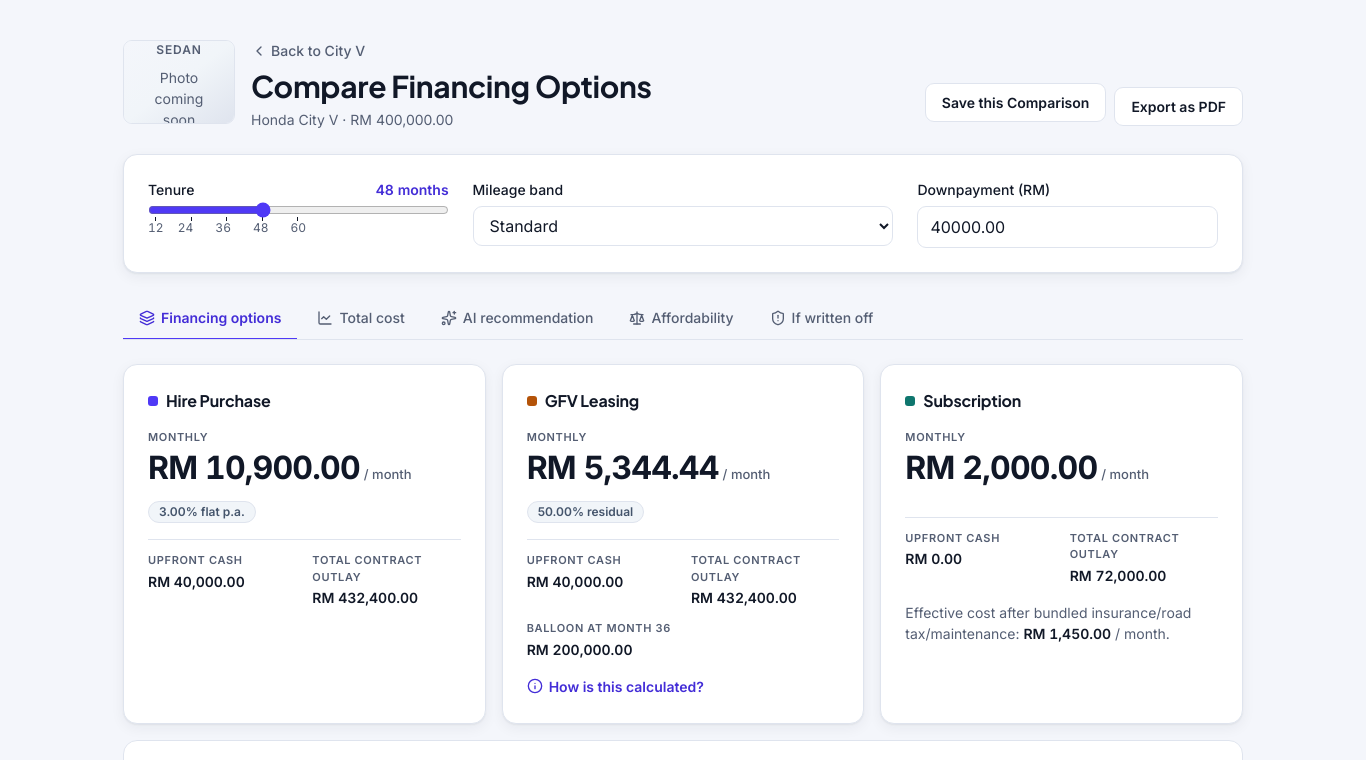
Test: ComparisonPage › TCO Breakdown & Depreciation tab › shows how each operating cost was derived, plus the Peninsular and before-NCD notes
The image size is (1366, 760).
Click the tab "Total cost": x=361, y=318 [301,297,421,340]
(page scrolled)
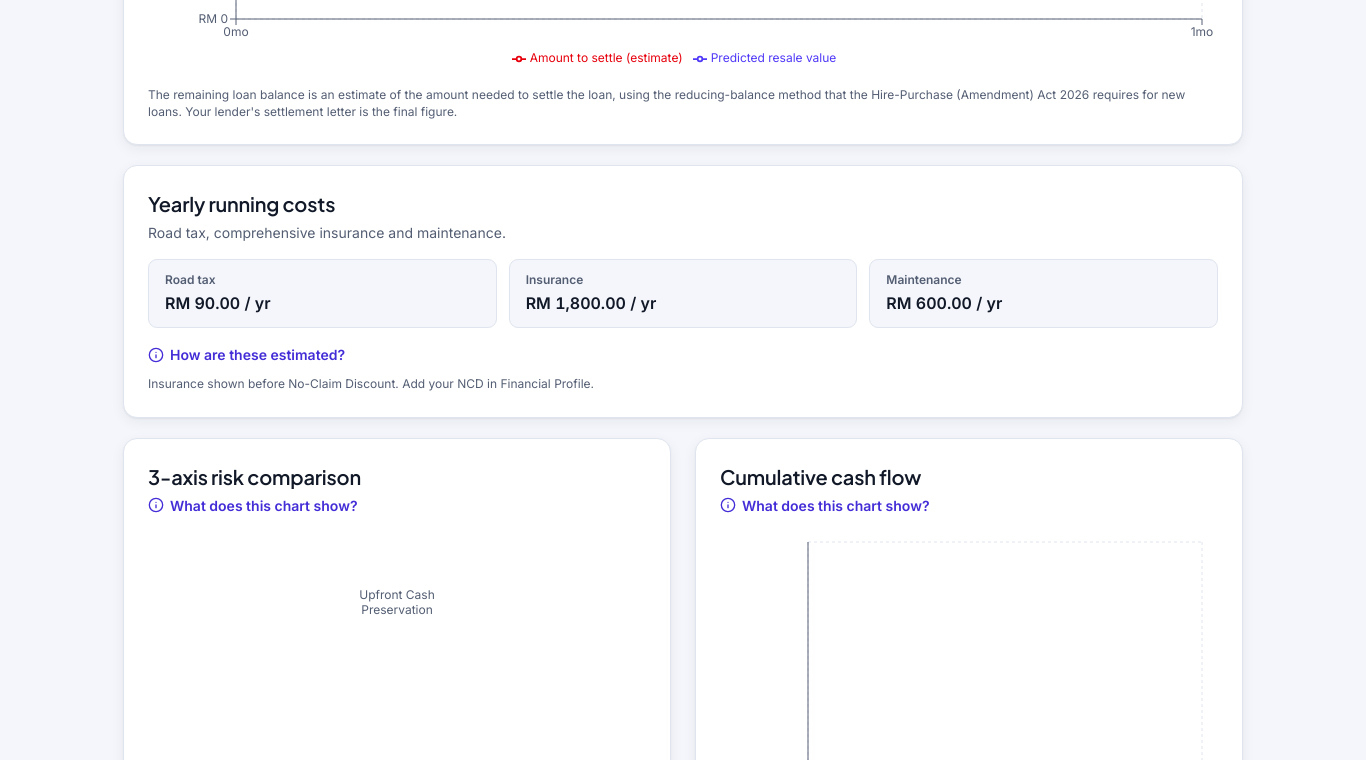
Now the text "Insurance shown before No-Claim Discount. Add your NCD in Financial Profile." is shown, box [148,376,594,391]
